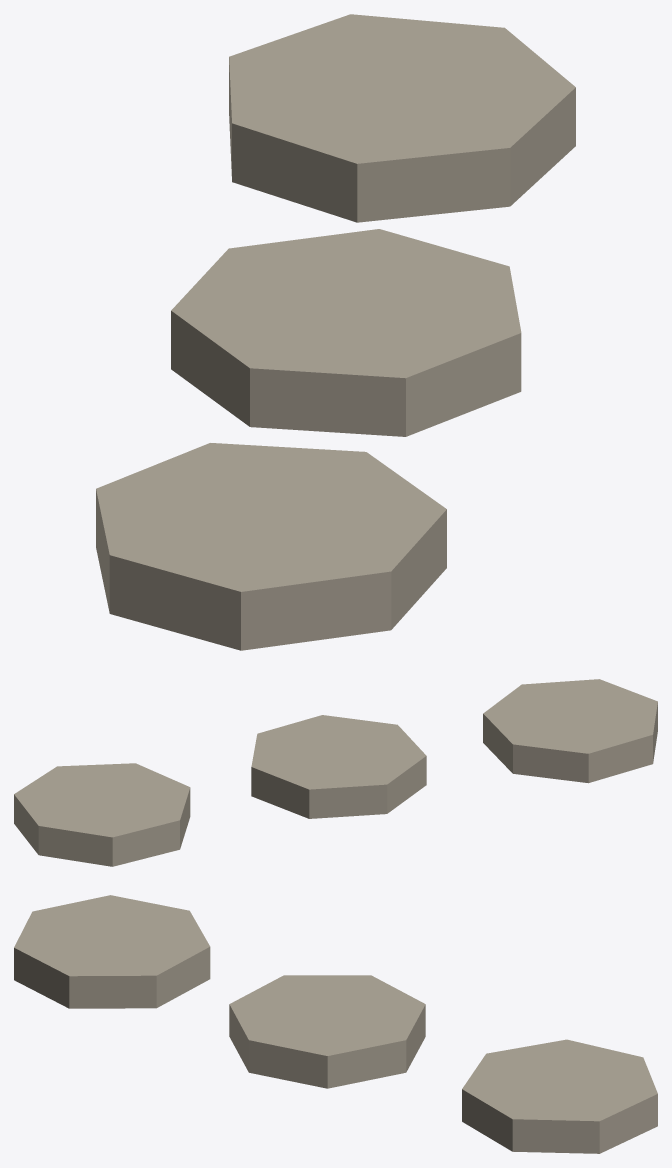
Rendered from stepping_stones.glb.
3 views of the same model, one above another, from view 1: azimuth 30°, elevation 25°; view 2: azimuth 150°, elevation 25°; view 3: azimuth 270°, elevation 25° (orthographic). The views are drawn at different scales.
Parts seen in each view (by area): view 1: stepping_stones; view 2: stepping_stones; view 3: stepping_stones.
Boxes of the visible parts, x1,y1,x2,y2 form: stepping_stones: (96,14,575,650); stepping_stones: (14,679,657,866); stepping_stones: (14,895,657,1153).
Size of the model in its own units: 1.49 by 0.1 by 1.79.
